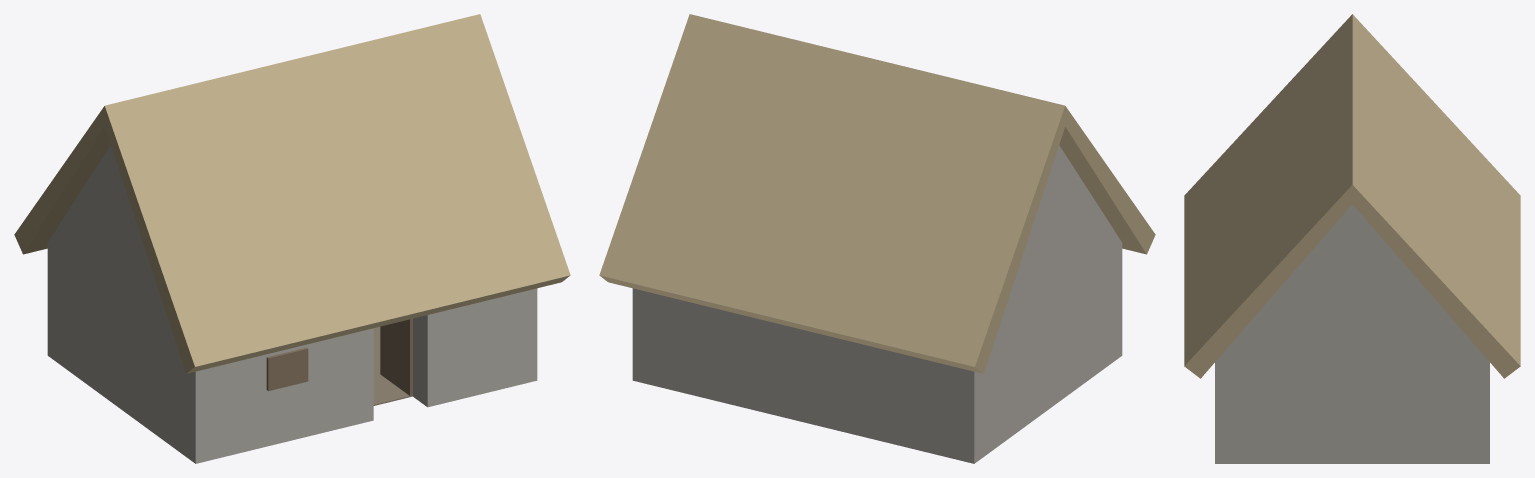
File: cottage-b.glb
The picture shows the model from 3 angles, left to right: view 1: azimuth 30°, elevation 25°; view 2: azimuth 150°, elevation 25°; view 3: azimuth 270°, elevation 25°; orthographic projection. The views are drawn at different scales.
Visible parts, largest first — view 1: cottage-b-thatch, cottage-b-wall, cottage-b-wood, cottage-b-floor; view 2: cottage-b-thatch, cottage-b-wall; view 3: cottage-b-thatch, cottage-b-wall.
Part boxes in pixels (<box>): cottage-b-thatch: <box>14,14,570,373</box>; cottage-b-wall: <box>47,145,537,463</box>; cottage-b-wood: <box>266,318,412,395</box>; cottage-b-floor: <box>373,326,412,405</box>; cottage-b-thatch: <box>599,14,1155,373</box>; cottage-b-wall: <box>632,145,1122,463</box>; cottage-b-thatch: <box>1184,14,1520,378</box>; cottage-b-wall: <box>1215,204,1489,463</box>.
Size of the model in its own units: 6.6 by 5.18 by 5.5.
